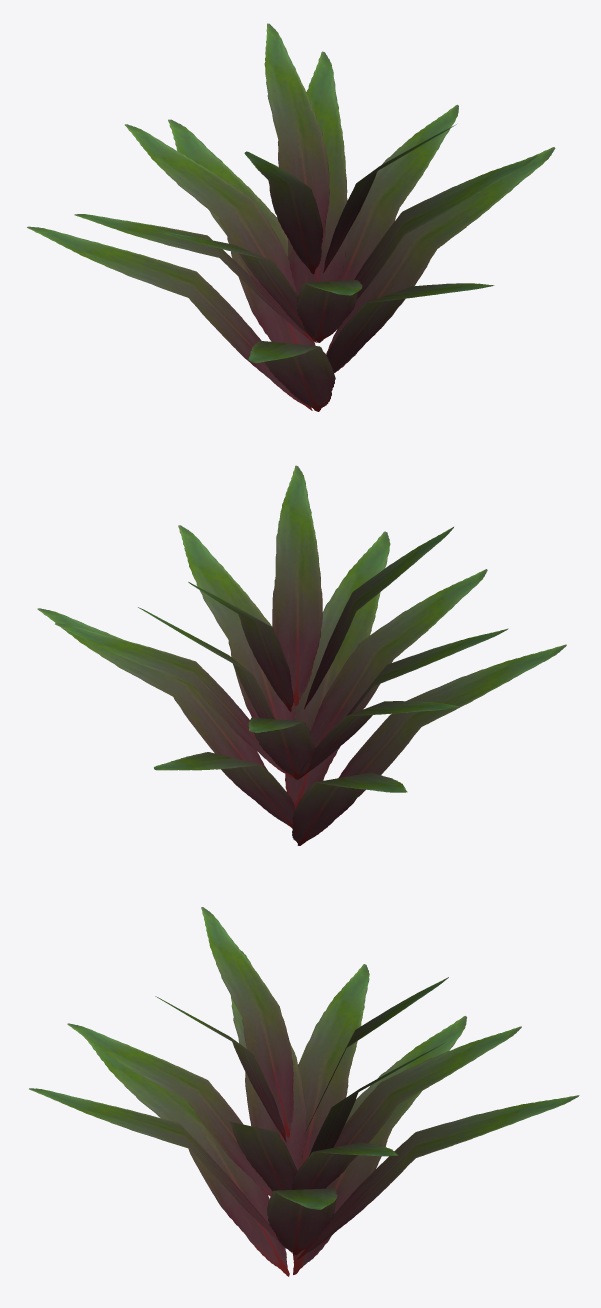
The model's file is shrub_tropic_plant_a.glb.
The picture shows the model from 3 angles, top to bottom: view 1: azimuth 30°, elevation 25°; view 2: azimuth 150°, elevation 25°; view 3: azimuth 270°, elevation 25°; orthographic projection. The views are drawn at different scales.
Visible parts, largest first — view 1: shrub_tropic_plant_a; view 2: shrub_tropic_plant_a; view 3: shrub_tropic_plant_a.
Part boxes in pixels (x1,y1,x2,y2): shrub_tropic_plant_a: [27, 23, 555, 411]; shrub_tropic_plant_a: [37, 465, 566, 845]; shrub_tropic_plant_a: [29, 907, 579, 1276].
Size of the model in its own units: 4.44 by 2.84 by 4.58.
1 material, 1 textured.
